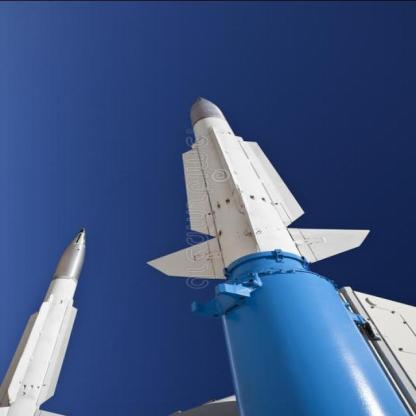MIL_TBM: (7, 221, 96, 415)
